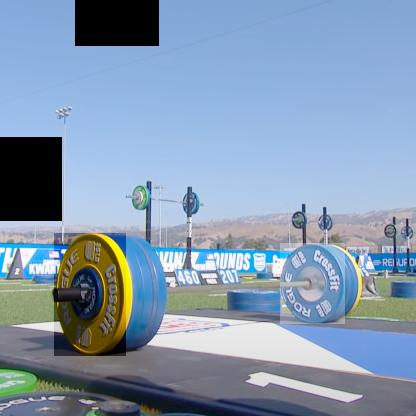barbell: (55, 234, 127, 357), (281, 244, 346, 325)
